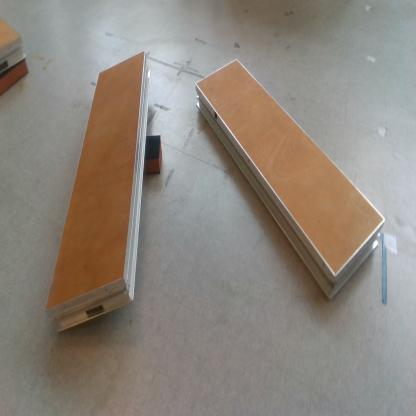Stairs: (195, 59, 386, 304), (46, 50, 152, 339), (2, 16, 28, 74)
